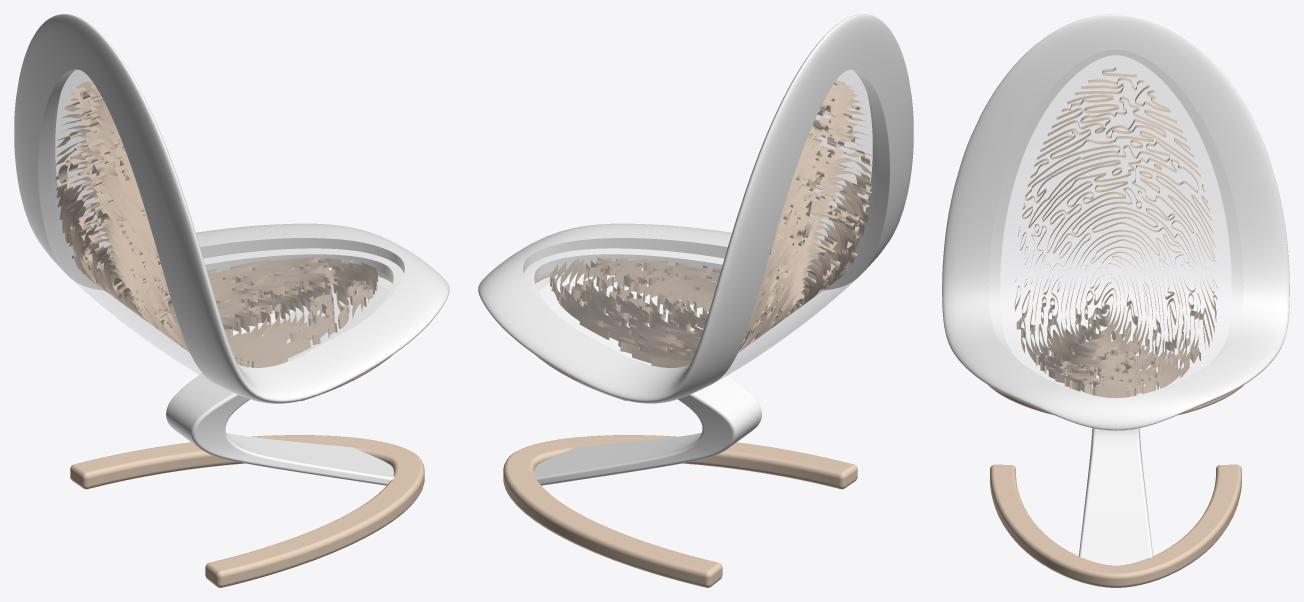
The model's file is fingerprint_chair.glb.
The picture shows the model from 3 angles, left to right: view 1: azimuth 30°, elevation 25°; view 2: azimuth 150°, elevation 25°; view 3: azimuth 270°, elevation 25°; orthographic projection. The views are drawn at different scales.
Visible parts, largest first — view 1: WOOD FRAME(29FF3756-5E11-4EA4-8339-D4E48CB7BCDD), PLEXI INLAY(BBE5FAA0-0E09-4C3A-ADBE-43DF87E14291), BASE(E8F20050-C175-4EF1-8453-CF57A000F1F6), BASE SPRING(6B8BB502-9400-4C23-8225-BFFE6BC4397D), EXTRUSION(6CCFA627-9CA1-4B7E-9E7D-7404E878A32E), EXTRUSION(E9F5D027-5588-4616-AFA9-9766178681A5), EXTRUSION(D5F8F2E0-A58E-40F2-8E23-9870CB083711), EXTRUSION(0D27A31E-16C2-45F3-B2F4-47E193F651DE), EXTRUSION(1DE823EB-C520-48A1-8727-D722A5D9D29A), EXTRUSION(41CE53FD-1958-43C6-AD61-3CBECEC1D1A7), EXTRUSION(7F2ECDE5-12BD-44C7-A7B7-EA189328E601), EXTRUSION(0A2953EF-6C31-4C09-867E-4831ADEAF8CB) (+3 smaller); view 2: WOOD FRAME(29FF3756-5E11-4EA4-8339-D4E48CB7BCDD), PLEXI INLAY(BBE5FAA0-0E09-4C3A-ADBE-43DF87E14291), BASE(E8F20050-C175-4EF1-8453-CF57A000F1F6), BASE SPRING(6B8BB502-9400-4C23-8225-BFFE6BC4397D), EXTRUSION(6CCFA627-9CA1-4B7E-9E7D-7404E878A32E), EXTRUSION(E9F5D027-5588-4616-AFA9-9766178681A5), EXTRUSION(0D27A31E-16C2-45F3-B2F4-47E193F651DE), EXTRUSION(B3ED374D-7E4C-472C-86CB-D3C19FE661F9), EXTRUSION(D5F8F2E0-A58E-40F2-8E23-9870CB083711), EXTRUSION(41CE53FD-1958-43C6-AD61-3CBECEC1D1A7), EXTRUSION(1DE823EB-C520-48A1-8727-D722A5D9D29A), EXTRUSION(7F2ECDE5-12BD-44C7-A7B7-EA189328E601) (+1 smaller); view 3: PLEXI INLAY(BBE5FAA0-0E09-4C3A-ADBE-43DF87E14291), WOOD FRAME(29FF3756-5E11-4EA4-8339-D4E48CB7BCDD), BASE(E8F20050-C175-4EF1-8453-CF57A000F1F6), BASE SPRING(6B8BB502-9400-4C23-8225-BFFE6BC4397D), EXTRUSION(6CCFA627-9CA1-4B7E-9E7D-7404E878A32E), EXTRUSION(E9F5D027-5588-4616-AFA9-9766178681A5), EXTRUSION(0D27A31E-16C2-45F3-B2F4-47E193F651DE), EXTRUSION(41CE53FD-1958-43C6-AD61-3CBECEC1D1A7), EXTRUSION(B3ED374D-7E4C-472C-86CB-D3C19FE661F9), EXTRUSION(1DE823EB-C520-48A1-8727-D722A5D9D29A), EXTRUSION(D5F8F2E0-A58E-40F2-8E23-9870CB083711), EXTRUSION(0A2953EF-6C31-4C09-867E-4831ADEAF8CB).
Boxes of the visible parts, x1,y1,x2,y2 form: WOOD FRAME(29FF3756-5E11-4EA4-8339-D4E48CB7BCDD): (14, 14, 449, 403); PLEXI INLAY(BBE5FAA0-0E09-4C3A-ADBE-43DF87E14291): (38, 70, 404, 380); BASE(E8F20050-C175-4EF1-8453-CF57A000F1F6): (70, 435, 424, 587); BASE SPRING(6B8BB502-9400-4C23-8225-BFFE6BC4397D): (166, 276, 394, 485); EXTRUSION(6CCFA627-9CA1-4B7E-9E7D-7404E878A32E): (81, 234, 366, 353); EXTRUSION(E9F5D027-5588-4616-AFA9-9766178681A5): (58, 159, 162, 309); EXTRUSION(D5F8F2E0-A58E-40F2-8E23-9870CB083711): (240, 296, 334, 367); EXTRUSION(0D27A31E-16C2-45F3-B2F4-47E193F651DE): (55, 147, 160, 264); EXTRUSION(1DE823EB-C520-48A1-8727-D722A5D9D29A): (133, 273, 267, 349); EXTRUSION(41CE53FD-1958-43C6-AD61-3CBECEC1D1A7): (56, 140, 144, 211); EXTRUSION(7F2ECDE5-12BD-44C7-A7B7-EA189328E601): (244, 283, 330, 311); EXTRUSION(0A2953EF-6C31-4C09-867E-4831ADEAF8CB): (100, 183, 169, 294); WOOD FRAME(29FF3756-5E11-4EA4-8339-D4E48CB7BCDD): (478, 14, 913, 403); PLEXI INLAY(BBE5FAA0-0E09-4C3A-ADBE-43DF87E14291): (523, 70, 889, 380); BASE(E8F20050-C175-4EF1-8453-CF57A000F1F6): (503, 435, 857, 587); BASE SPRING(6B8BB502-9400-4C23-8225-BFFE6BC4397D): (533, 272, 761, 485); EXTRUSION(6CCFA627-9CA1-4B7E-9E7D-7404E878A32E): (560, 242, 824, 367); EXTRUSION(E9F5D027-5588-4616-AFA9-9766178681A5): (739, 186, 857, 349); EXTRUSION(0D27A31E-16C2-45F3-B2F4-47E193F651DE): (777, 158, 872, 228); EXTRUSION(B3ED374D-7E4C-472C-86CB-D3C19FE661F9): (789, 117, 866, 188); EXTRUSION(D5F8F2E0-A58E-40F2-8E23-9870CB083711): (627, 265, 721, 284); EXTRUSION(41CE53FD-1958-43C6-AD61-3CBECEC1D1A7): (780, 130, 869, 219); EXTRUSION(1DE823EB-C520-48A1-8727-D722A5D9D29A): (685, 250, 836, 316); EXTRUSION(7F2ECDE5-12BD-44C7-A7B7-EA189328E601): (616, 275, 647, 318); PLEXI INLAY(BBE5FAA0-0E09-4C3A-ADBE-43DF87E14291): (988, 50, 1243, 397); WOOD FRAME(29FF3756-5E11-4EA4-8339-D4E48CB7BCDD): (942, 14, 1289, 430); BASE(E8F20050-C175-4EF1-8453-CF57A000F1F6): (990, 464, 1241, 587); BASE SPRING(6B8BB502-9400-4C23-8225-BFFE6BC4397D): (1079, 394, 1152, 565); EXTRUSION(6CCFA627-9CA1-4B7E-9E7D-7404E878A32E): (1047, 216, 1212, 388); EXTRUSION(E9F5D027-5588-4616-AFA9-9766178681A5): (1042, 157, 1216, 293); EXTRUSION(0D27A31E-16C2-45F3-B2F4-47E193F651DE): (1025, 140, 1200, 203); EXTRUSION(41CE53FD-1958-43C6-AD61-3CBECEC1D1A7): (1043, 128, 1197, 167); EXTRUSION(B3ED374D-7E4C-472C-86CB-D3C19FE661F9): (1047, 96, 1186, 141); EXTRUSION(1DE823EB-C520-48A1-8727-D722A5D9D29A): (1043, 233, 1114, 354); EXTRUSION(D5F8F2E0-A58E-40F2-8E23-9870CB083711): (1021, 327, 1089, 375); EXTRUSION(0A2953EF-6C31-4C09-867E-4831ADEAF8CB): (1028, 159, 1120, 228).
Bounding box in the file's own units: 0.782 × 1.14 × 0.8128.
